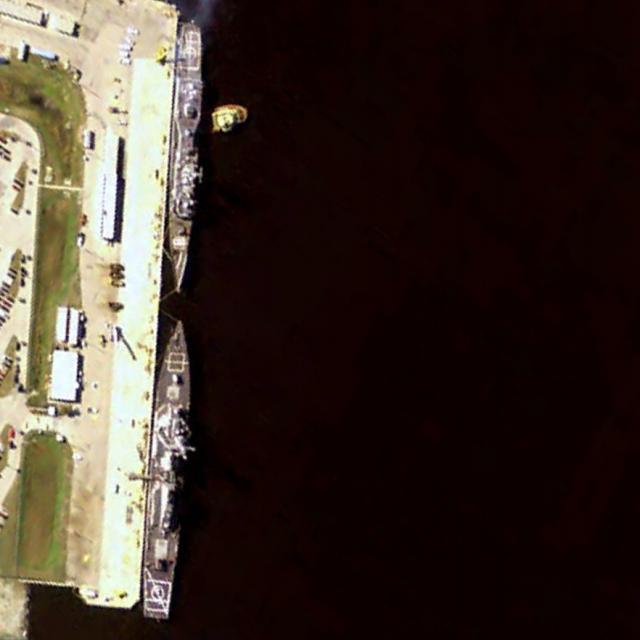Destroyer: (139, 318, 200, 621)
Frigate: (163, 21, 210, 297)
